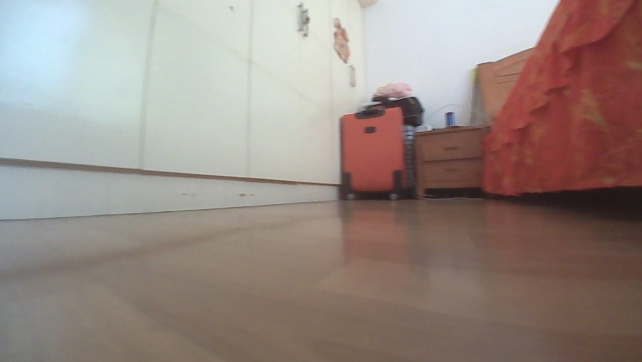bed: (474, 0, 641, 201)
cabinet: (411, 123, 487, 198)
